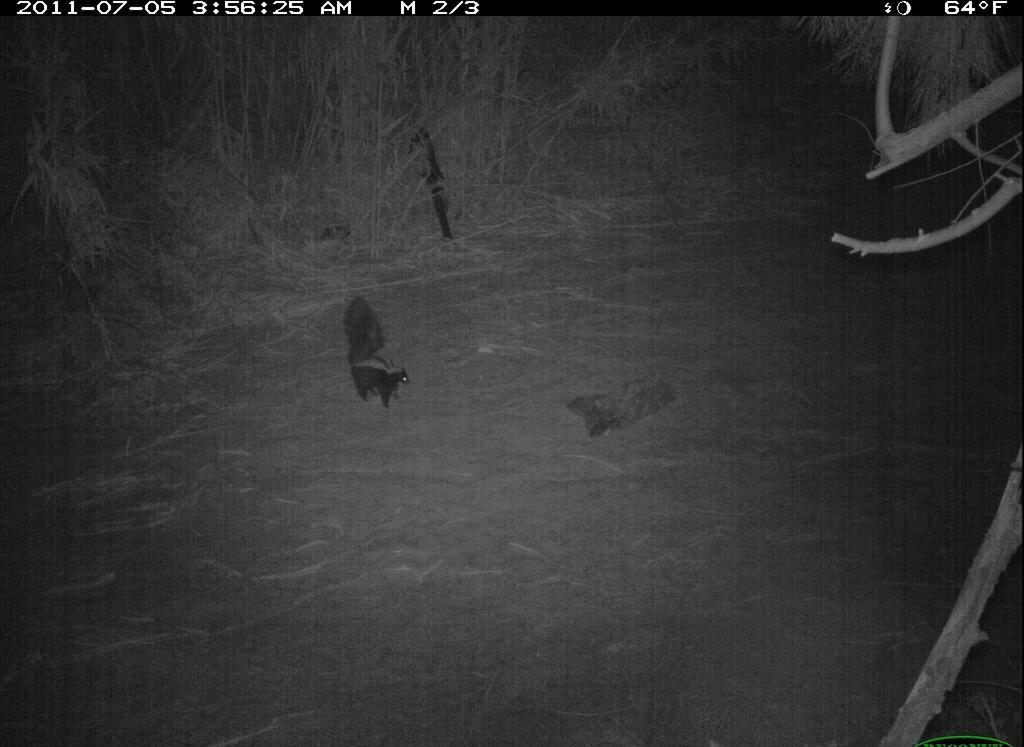skunk: (338, 294, 413, 411)
